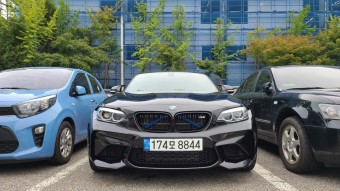car: (141, 135, 204, 153)
